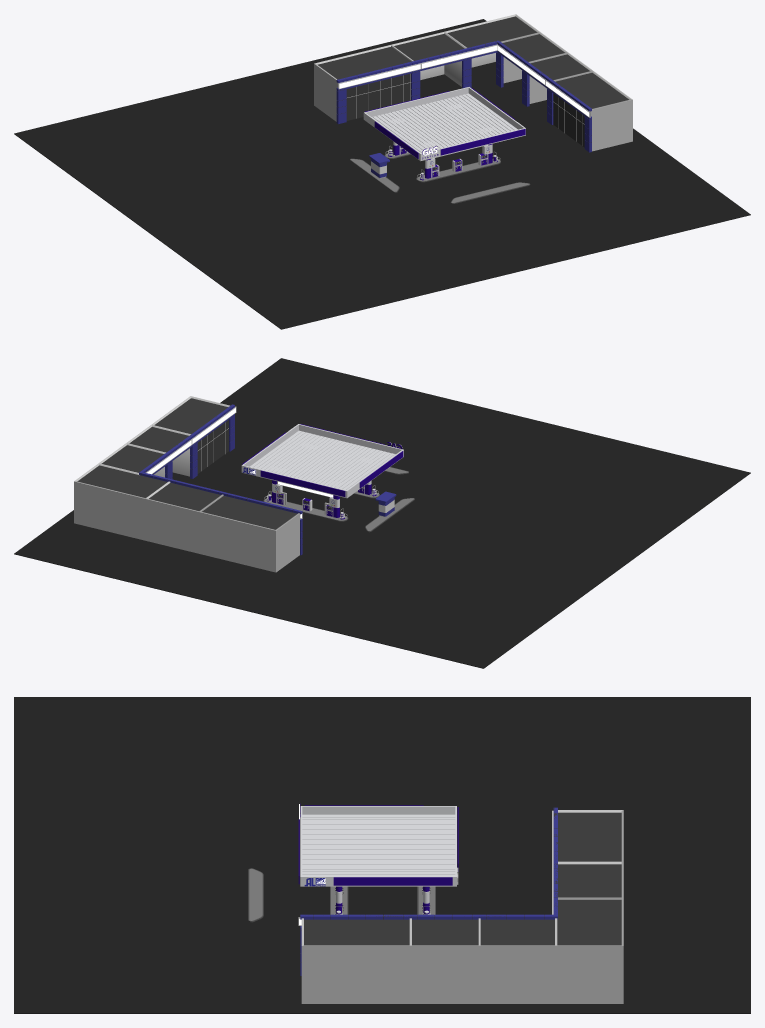
Rendered from gas_station_5.glb.
The picture shows the model from 3 angles, top to bottom: view 1: azimuth 30°, elevation 25°; view 2: azimuth 150°, elevation 25°; view 3: azimuth 270°, elevation 25°; orthographic projection. The views are drawn at different scales.
Visible parts, largest first — view 1: Rectangle001, Rectangle129, Layer:002; view 2: Rectangle001, Rectangle129, Layer:002; view 3: Rectangle001, Rectangle129, Layer:002.
Boxes of the visible parts, <box> form: Rectangle001: <box>14,19,750,329</box>; Rectangle129: <box>314,14,632,152</box>; Layer:002: <box>350,87,530,203</box>; Rectangle001: <box>14,358,750,668</box>; Rectangle129: <box>74,396,302,572</box>; Layer:002: <box>241,424,414,532</box>; Rectangle001: <box>14,697,750,1013</box>; Rectangle129: <box>298,807,623,1003</box>; Layer:002: <box>248,805,458,922</box>.
Bounding box in the file's own units: 174 × 15.68 × 172.
